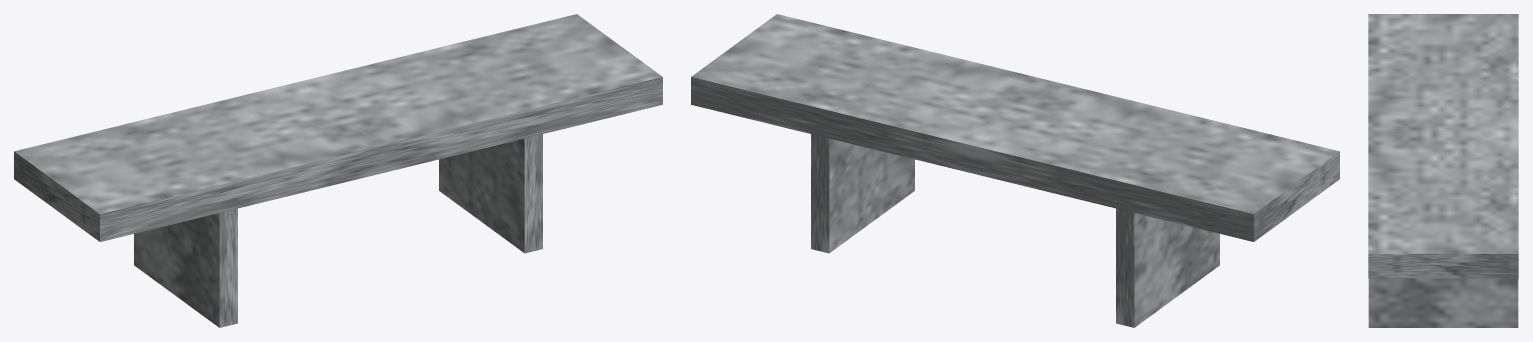
The model's file is ConcreteBench.fbx.
3 views of the same model, side by side, from view 1: azimuth 30°, elevation 25°; view 2: azimuth 150°, elevation 25°; view 3: azimuth 270°, elevation 25° (orthographic). The views are drawn at different scales.
Parts seen in each view (by area): view 1: ConcreteBench; view 2: ConcreteBench; view 3: ConcreteBench.
Boxes of the visible parts, <box> form: ConcreteBench: <box>14,14,662,327</box>; ConcreteBench: <box>691,14,1339,327</box>; ConcreteBench: <box>1368,14,1518,327</box>.
Bounding box in the file's own units: 474 × 115 × 125.
